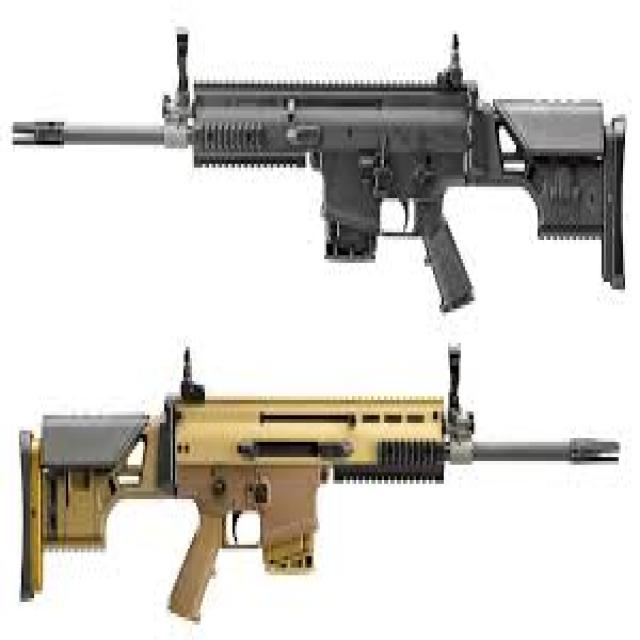Gun: (17, 24, 640, 364), (0, 354, 640, 640)
